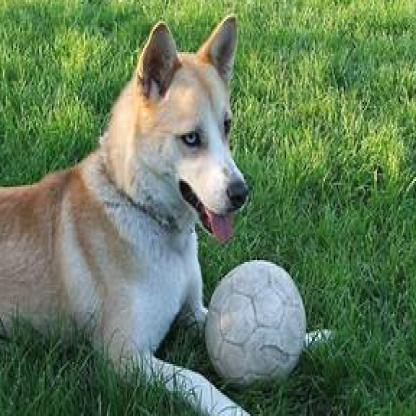dog: (1, 12, 334, 414)
